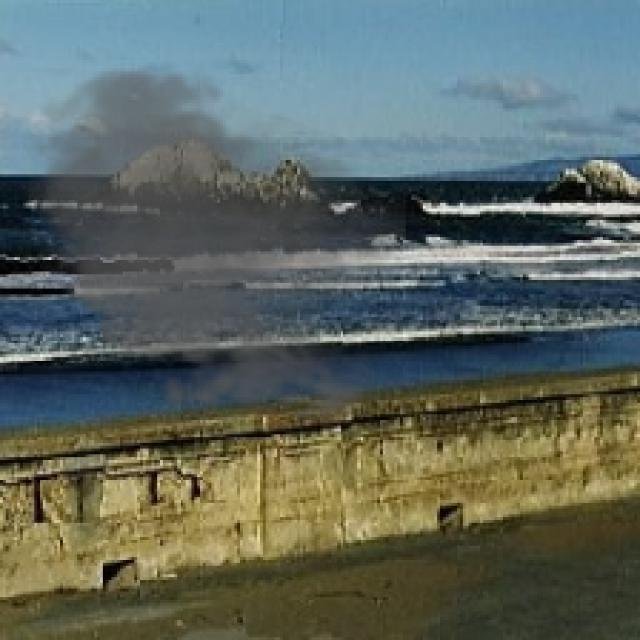Smoke: (6, 59, 406, 434)
